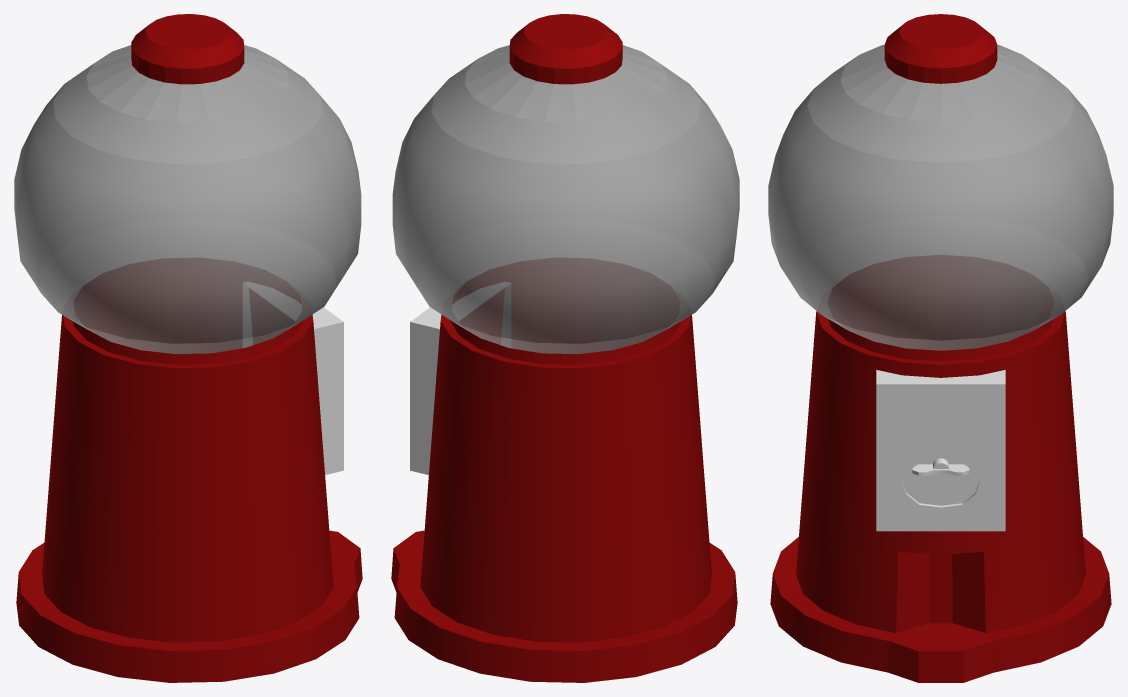
The model's file is Gumball.fbx.
3 views of the same model, side by side, from view 1: azimuth 30°, elevation 25°; view 2: azimuth 150°, elevation 25°; view 3: azimuth 270°, elevation 25° (orthographic).
Parts seen in each view (by area): view 1: pCube322; view 2: pCube322; view 3: pCube322.
Part boxes in pixels (x1=…): pCube322: x1=14, y1=14, x2=362, y2=682; pCube322: x1=391, y1=14, x2=739, y2=682; pCube322: x1=768, y1=14, x2=1113, y2=682.
Size of the model in its own units: 23.02 by 40.47 by 22.12.
